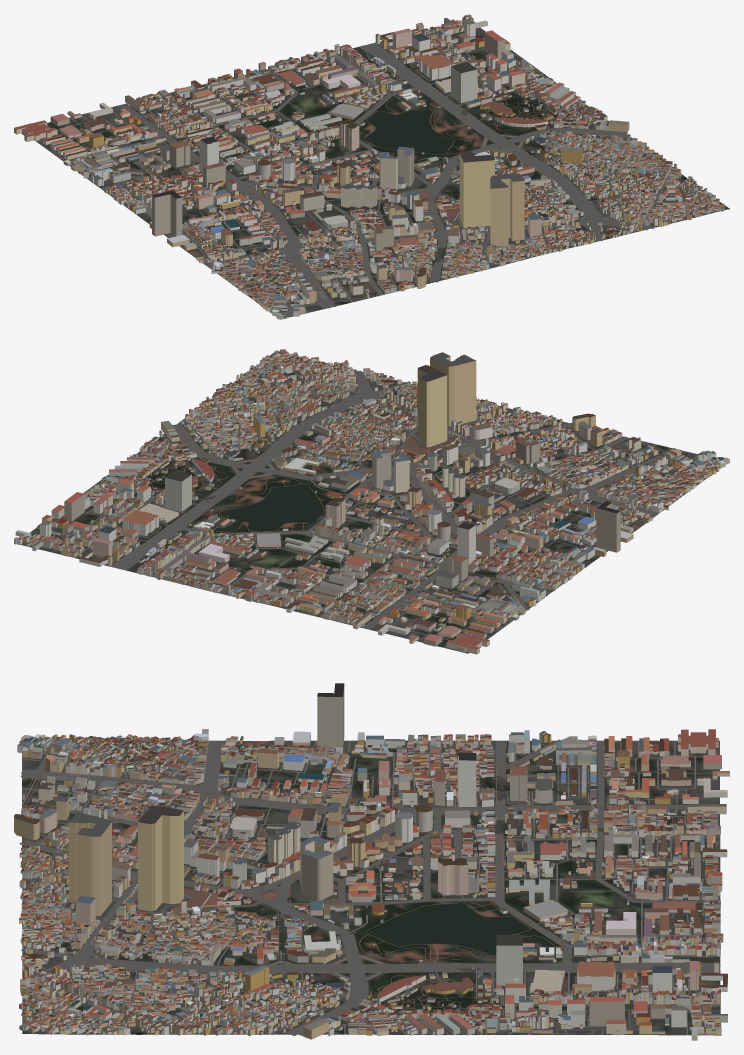
The picture shows the model from 3 angles, top to bottom: view 1: azimuth 30°, elevation 25°; view 2: azimuth 150°, elevation 25°; view 3: azimuth 270°, elevation 25°; orthographic projection. The views are drawn at different scales.
Parts seen in each view (by area): view 1: buildings, ground, roads, water; view 2: buildings, ground, roads, water; view 3: buildings, ground, roads, water.
Part boxes in pixels (left/top/right/bottom): buildings: left=14, top=14, right=724, bottom=319; ground: left=36, top=27, right=729, bottom=319; roads: left=36, top=28, right=725, bottom=316; water: left=123, top=95, right=686, bottom=263; buildings: left=14, top=349, right=729, bottom=654; ground: left=15, top=351, right=720, bottom=653; roads: left=26, top=353, right=720, bottom=647; water: left=149, top=382, right=564, bottom=581; buildings: left=14, top=683, right=729, bottom=1040; ground: left=22, top=740, right=720, bottom=1035; roads: left=19, top=739, right=720, bottom=1035; water: left=136, top=763, right=546, bottom=1034.
Size of the model in its own units: 1449 by 198 by 1438.
